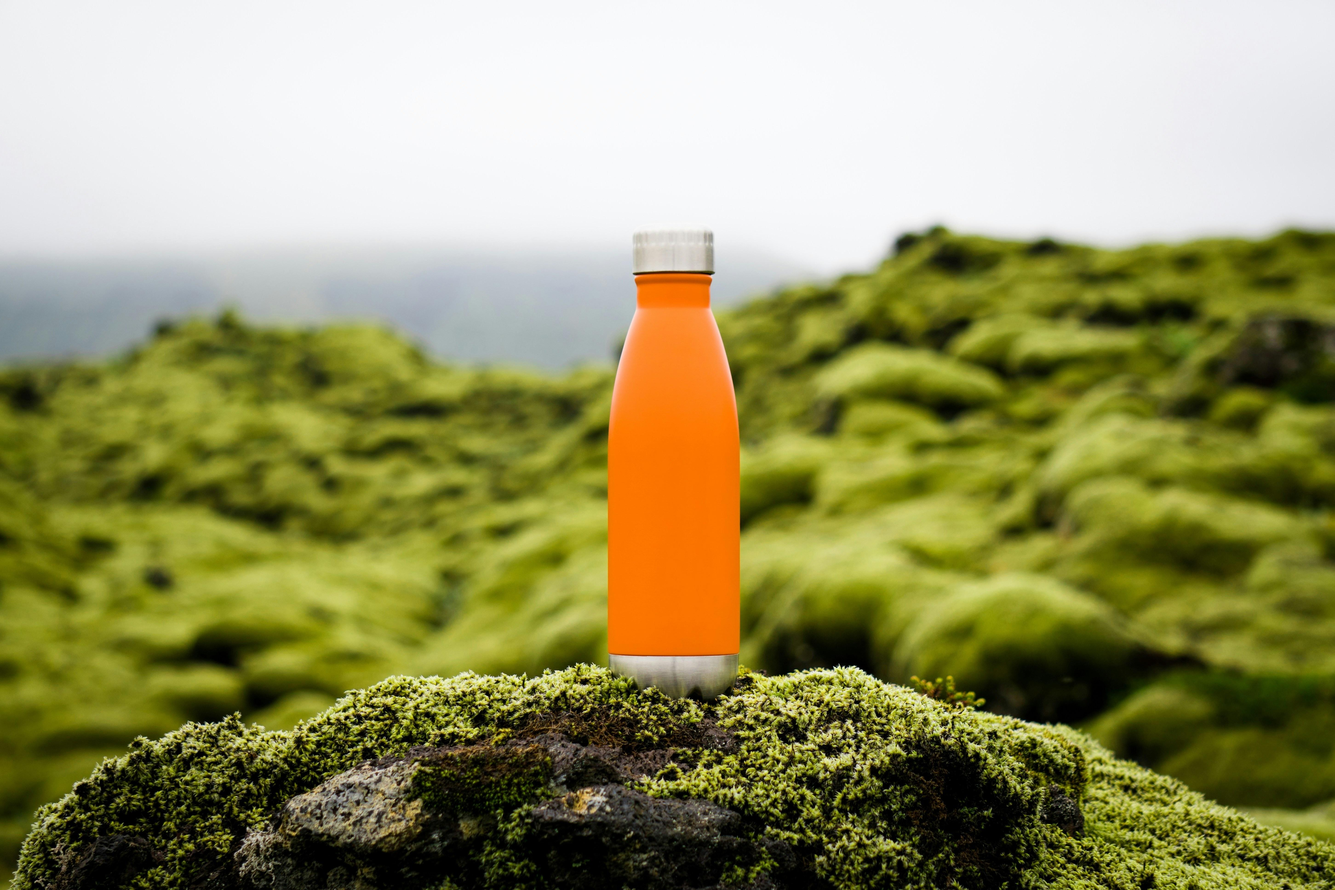Bottle-Detection: (577, 198, 777, 683)
